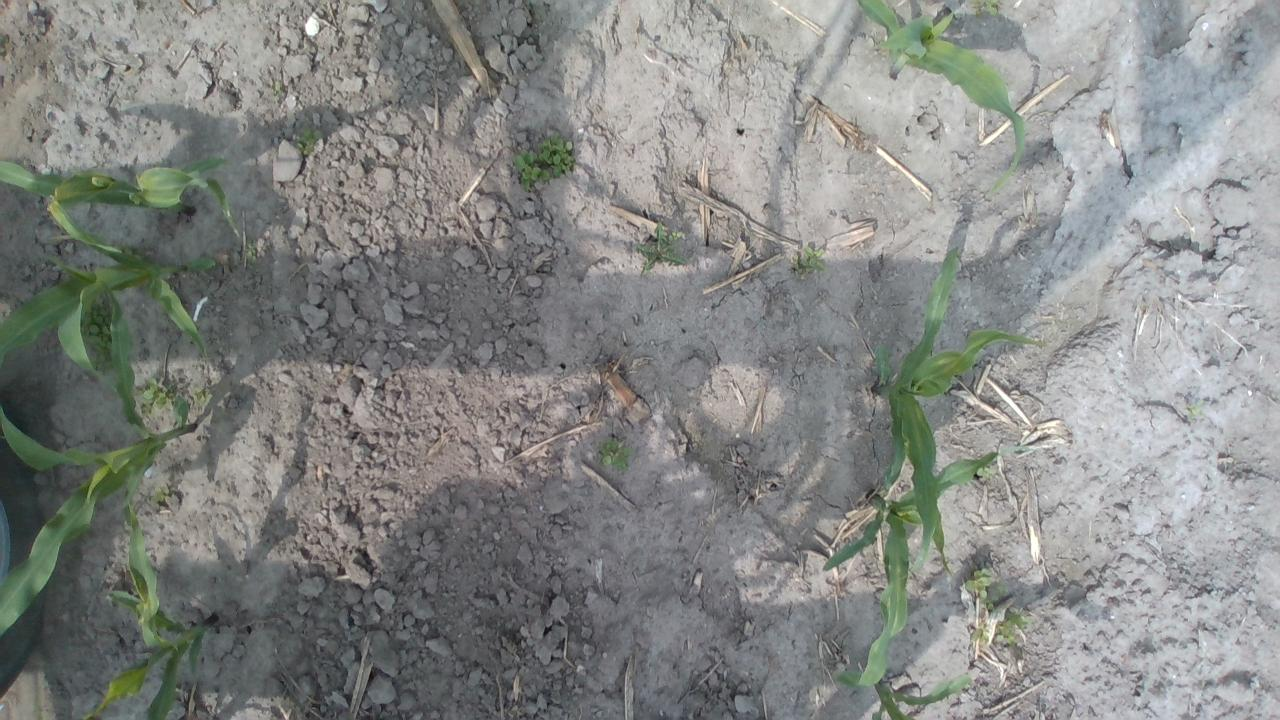Maize: (0, 255, 194, 642), (870, 246, 1042, 582), (824, 445, 1025, 690), (0, 190, 219, 390), (858, 0, 1026, 193), (81, 497, 216, 720), (0, 154, 253, 241), (870, 675, 974, 720)
Weeds: (513, 131, 575, 192), (632, 222, 688, 274), (83, 297, 114, 376), (134, 374, 176, 417), (962, 566, 999, 612), (994, 610, 1031, 647), (598, 436, 634, 474), (791, 246, 826, 274), (294, 127, 322, 155), (966, 0, 1000, 16), (191, 384, 216, 404), (242, 239, 258, 263), (1184, 398, 1204, 417), (150, 486, 169, 505), (974, 463, 994, 481), (272, 80, 284, 97)
